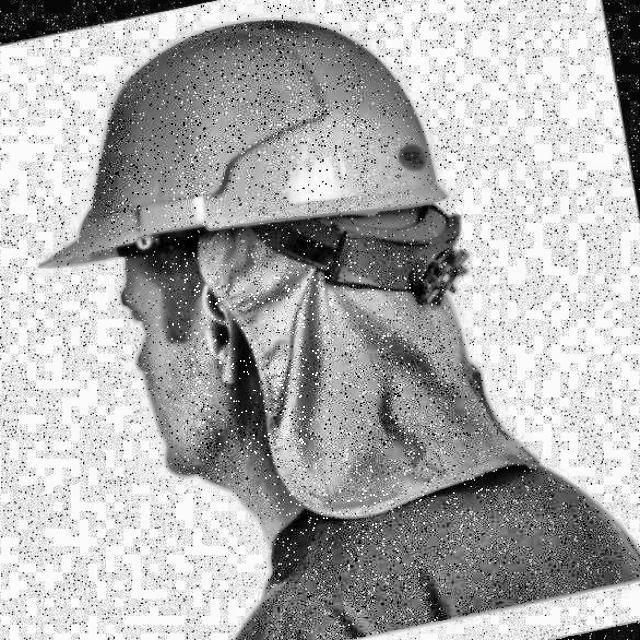Helmet: (0, 0, 494, 524)
